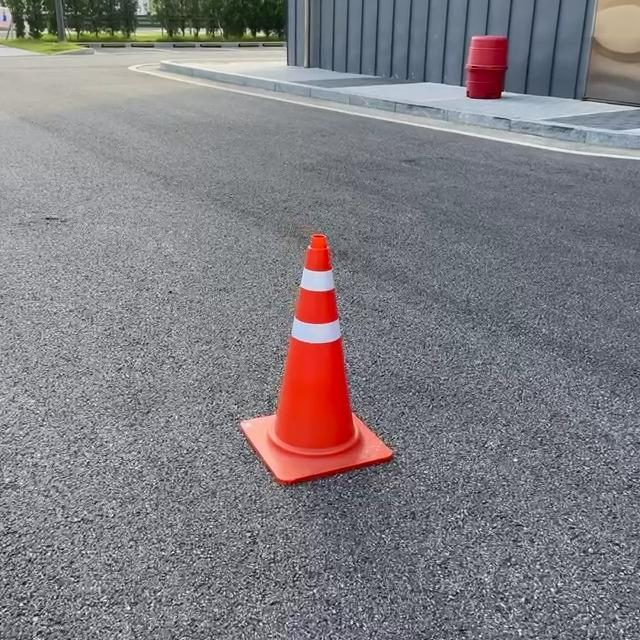fallen_object: (237, 218, 417, 488)
